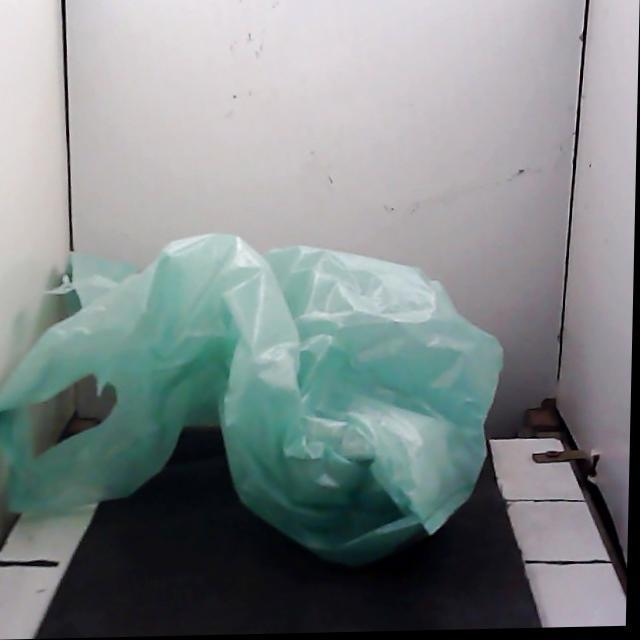plastico: (0, 234, 502, 564)
